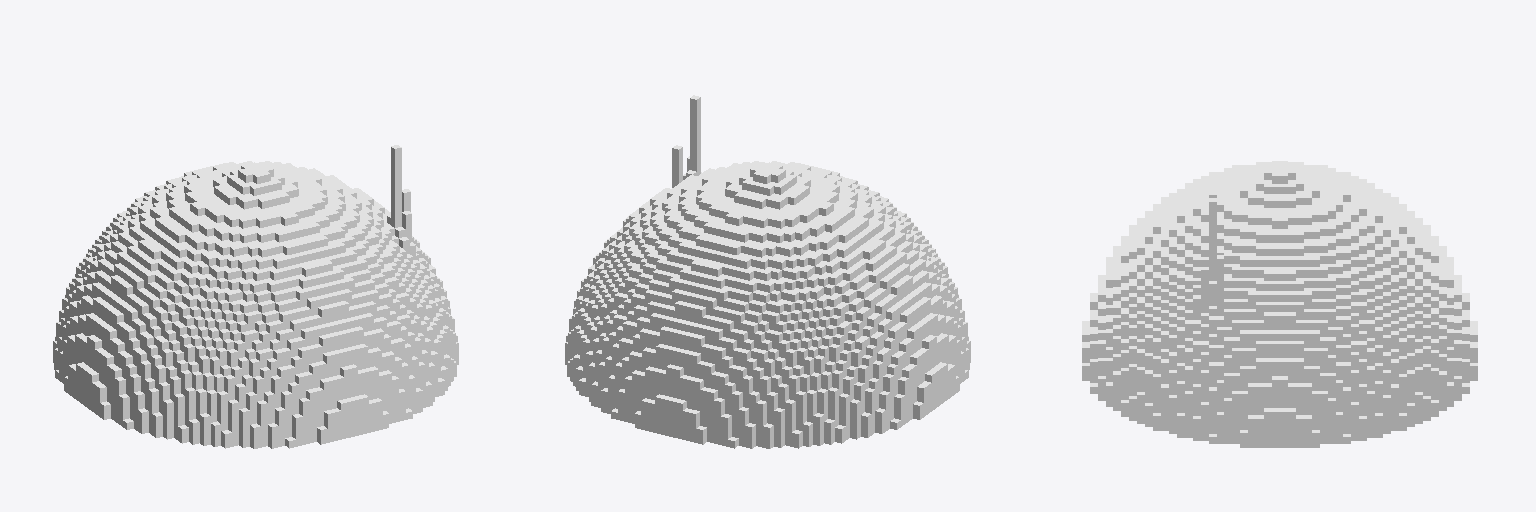
File: DOME1.obj
The picture shows the model from 3 angles: view 1: azimuth 30°, elevation 25°; view 2: azimuth 150°, elevation 25°; view 3: azimuth 270°, elevation 25°; orthographic projection.
Parts seen in each view (by area): view 1: object 1; view 2: object 1; view 3: object 1.
Part boxes in pixels (bbox=[...]): object 1: bbox=[53, 145, 458, 448]; object 1: bbox=[565, 95, 970, 448]; object 1: bbox=[1082, 161, 1477, 447].
Bounding box in the file's own units: 5 × 3 × 5.